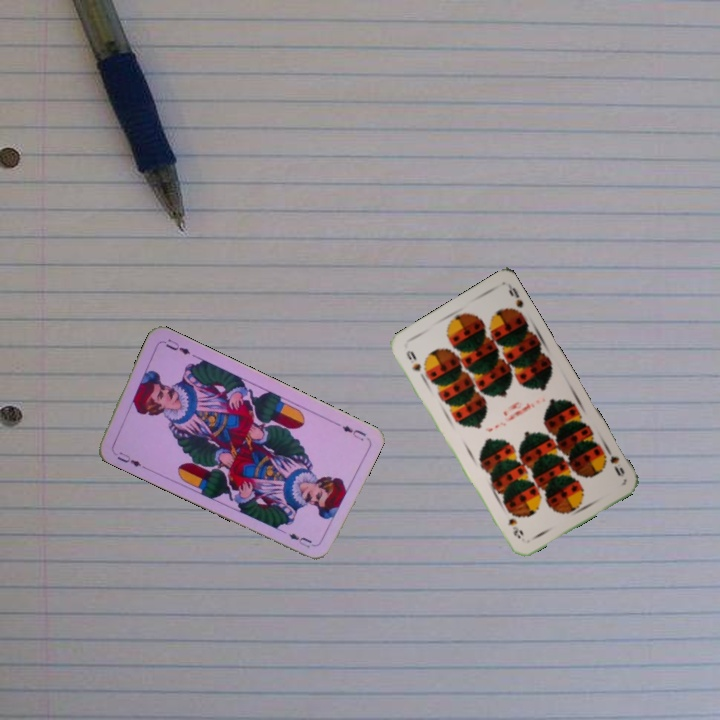EU: (108, 446, 146, 469), (338, 421, 369, 443)
S9: (402, 346, 429, 382), (601, 443, 627, 479)
